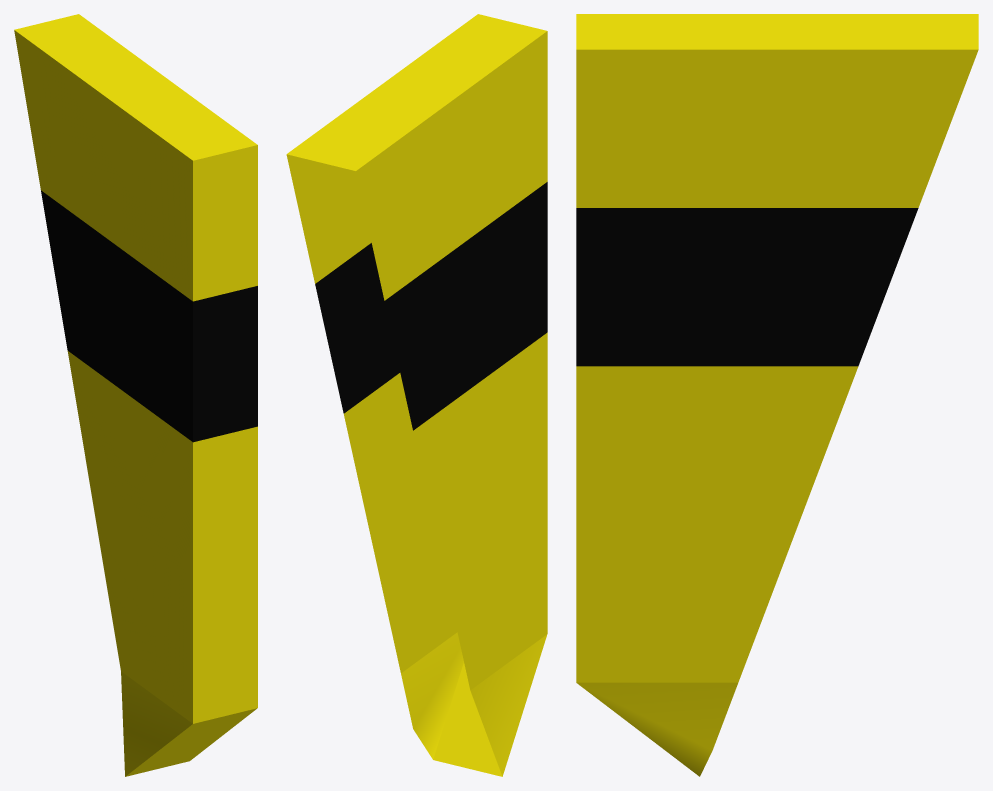
Rendered from кусок 1.fbx.
3 renders of one model, left to right at view 1: azimuth 30°, elevation 25°; view 2: azimuth 150°, elevation 25°; view 3: azimuth 270°, elevation 25°, orthographic. The views are drawn at different scales.
Parts seen in each view (by area): view 1: Pass_PassBase_Mat_0.017, Pass_PassBlack_Mat_0.016; view 2: Pass_PassBase_Mat_0.017, Pass_PassBlack_Mat_0.016; view 3: Pass_PassBase_Mat_0.017, Pass_PassBlack_Mat_0.016.
Boxes of the visible parts, <box> form: Pass_PassBase_Mat_0.017: <box>14,14,257,776</box>; Pass_PassBlack_Mat_0.016: <box>41,190,257,442</box>; Pass_PassBase_Mat_0.017: <box>286,14,547,776</box>; Pass_PassBlack_Mat_0.016: <box>315,182,547,430</box>; Pass_PassBase_Mat_0.017: <box>576,14,978,776</box>; Pass_PassBlack_Mat_0.016: <box>576,208,918,366</box>.
Size of the model in its own units: 0.08 by 0.6419 by 0.3187.
